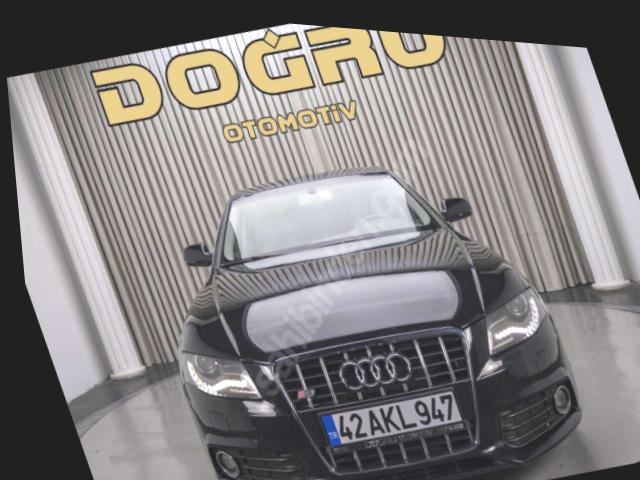plaka: (321, 390, 462, 447)
